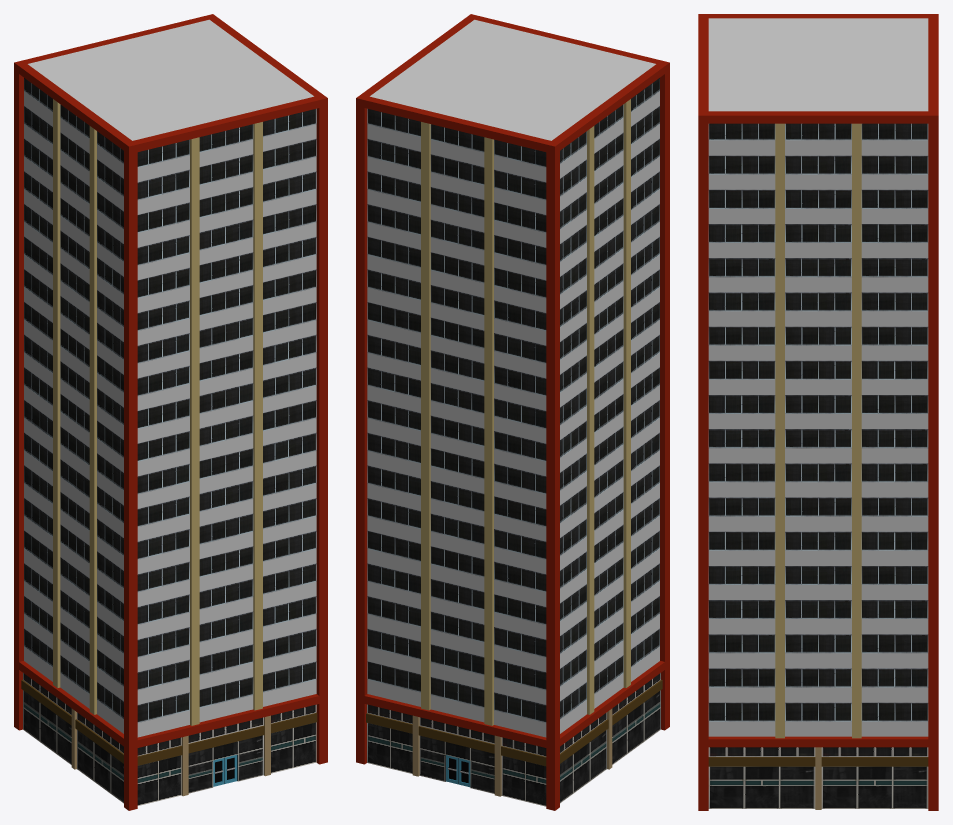
The picture shows the model from 3 angles, left to right: view 1: azimuth 30°, elevation 25°; view 2: azimuth 150°, elevation 25°; view 3: azimuth 270°, elevation 25°; orthographic projection. The views are drawn at different scales.
Visible parts, largest first — view 1: Building; view 2: Building; view 3: Building.
Part boxes in pixels (<box>): Building: <box>14,14,327,810</box>; Building: <box>356,14,669,810</box>; Building: <box>698,14,938,810</box>.
Size of what is drawn, in the model's own units: 19.12 by 61.02 by 19.12.
